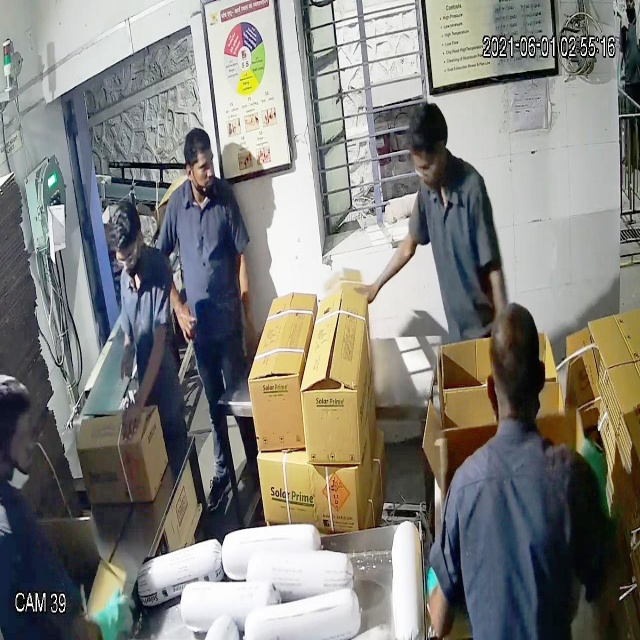Gafas: (404, 148, 444, 186), (110, 241, 146, 279)
